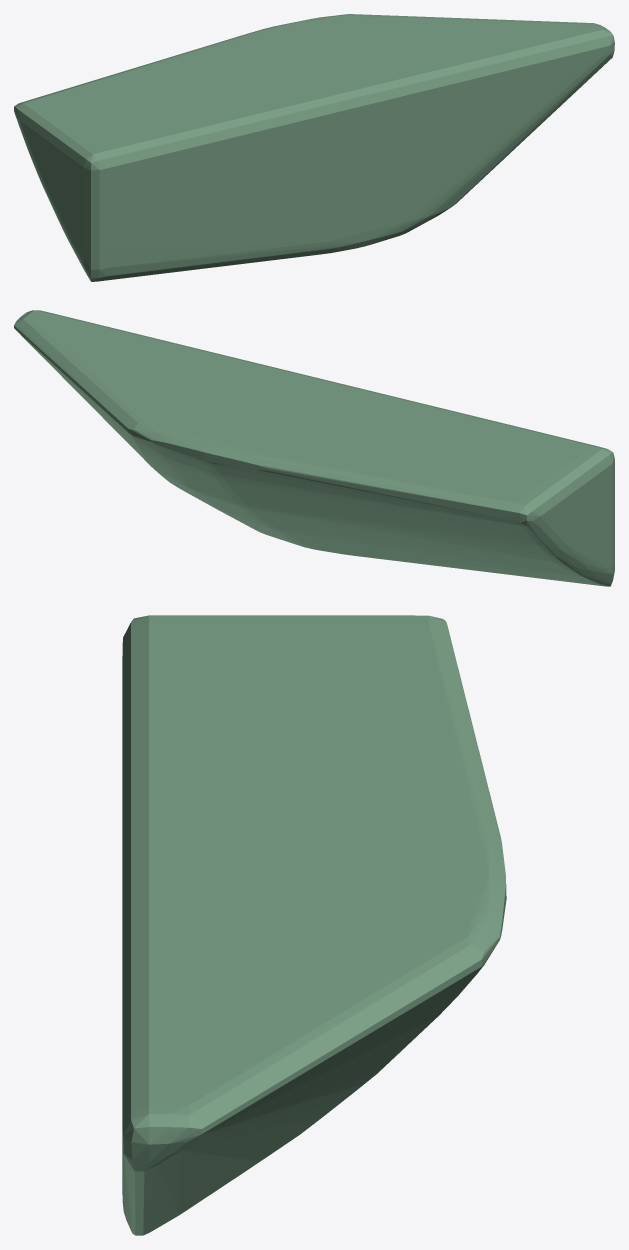
Rendered from left_shoulder_pitch_link_part_0.obj.
The picture shows the model from 3 angles, top to bottom: view 1: azimuth 30°, elevation 25°; view 2: azimuth 150°, elevation 25°; view 3: azimuth 270°, elevation 25°; orthographic projection. The views are drawn at different scales.
Bounding box in the file's own units: 0.0581 × 0.0162 × 0.0183.
